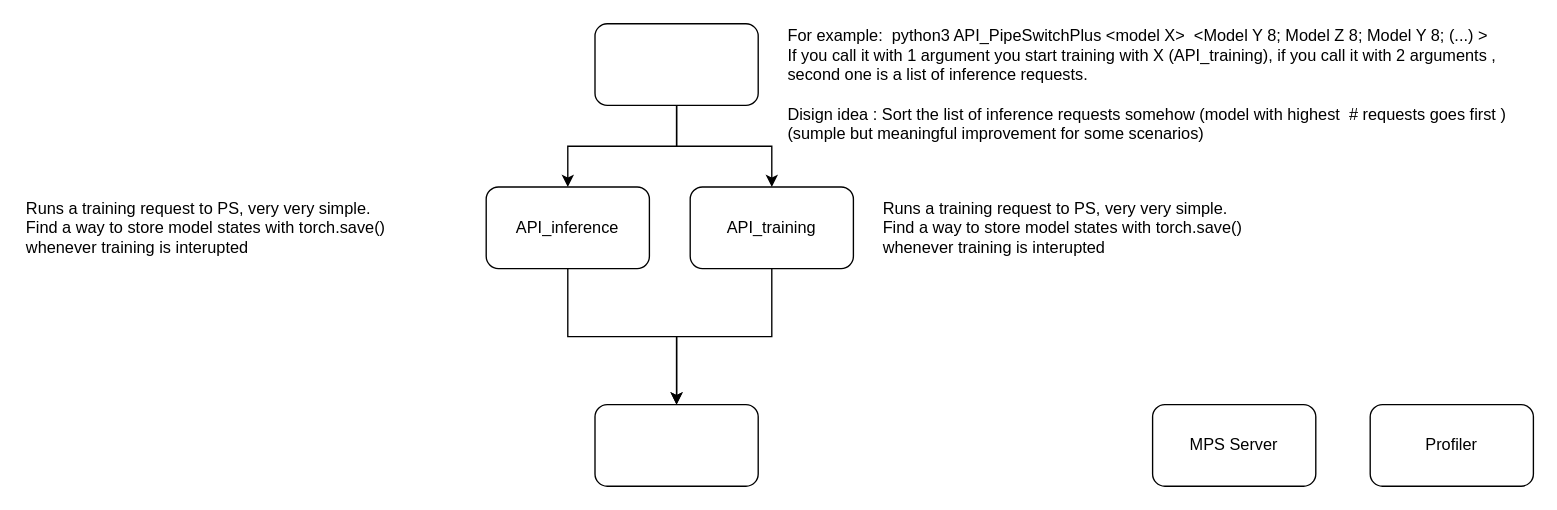
Some shapes in this 1557 by 510 pixel diagram are drawn without their labels. Each missing label, with the centre of its shape:
"API_PipeSwitchPlus" belongs at (676,63).
"PS Backend (main.py)" belongs at (676,444).
